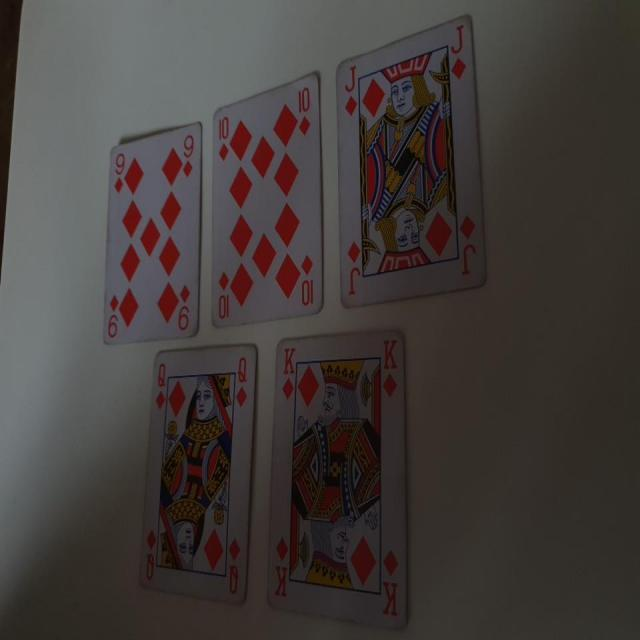10 of diamonds: (210, 67, 328, 330)
9 of diamonds: (98, 118, 204, 344)
jack of diamonds: (334, 9, 491, 310)
king of diamonds: (264, 329, 412, 632)
queen of diamonds: (136, 344, 260, 608)
